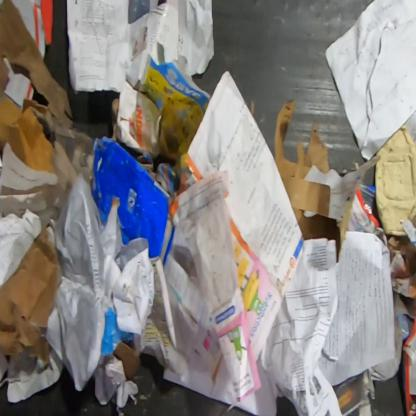cardboard: (274, 100, 354, 260), (90, 135, 177, 266), (0, 0, 74, 130), (0, 229, 62, 364), (0, 142, 68, 230), (0, 90, 58, 175), (374, 120, 415, 239), (110, 78, 164, 161), (101, 305, 135, 356), (114, 341, 140, 380)
